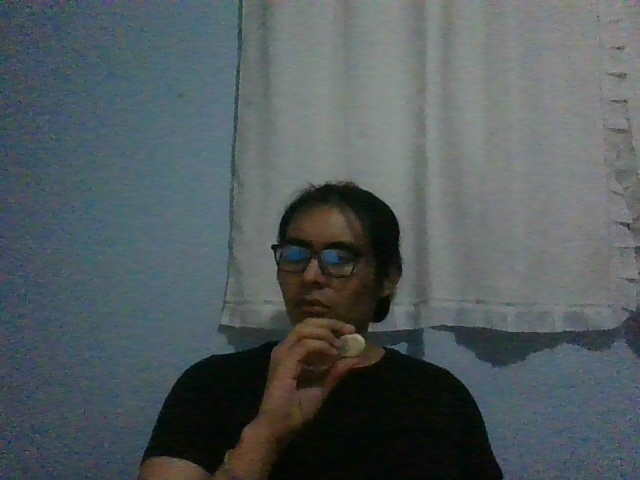goma: (334, 333, 366, 357)
